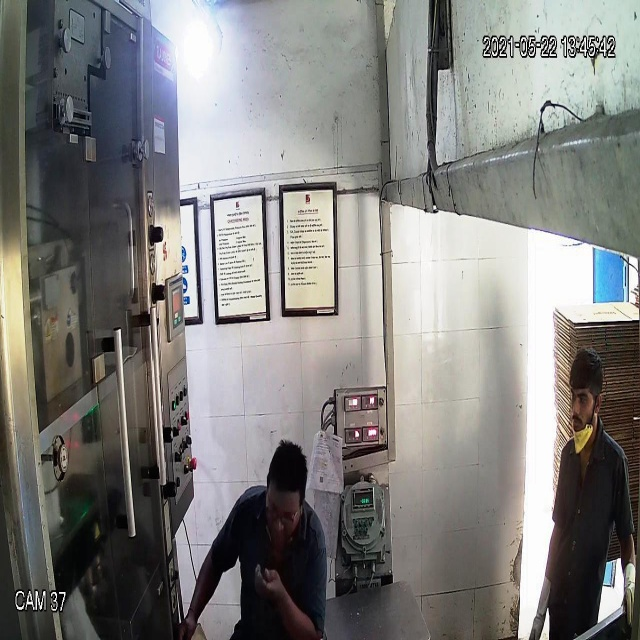Gafas: (264, 498, 303, 531)
Sin_gafas: (565, 388, 597, 411)
